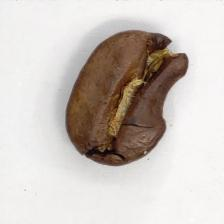NG: (128, 27, 187, 149)
